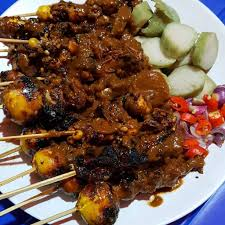sate: (1, 1, 213, 225)
